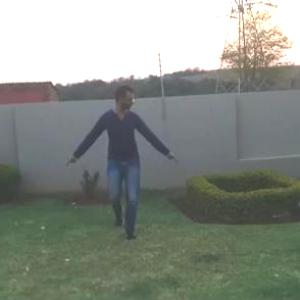land: (58, 84, 180, 255)
